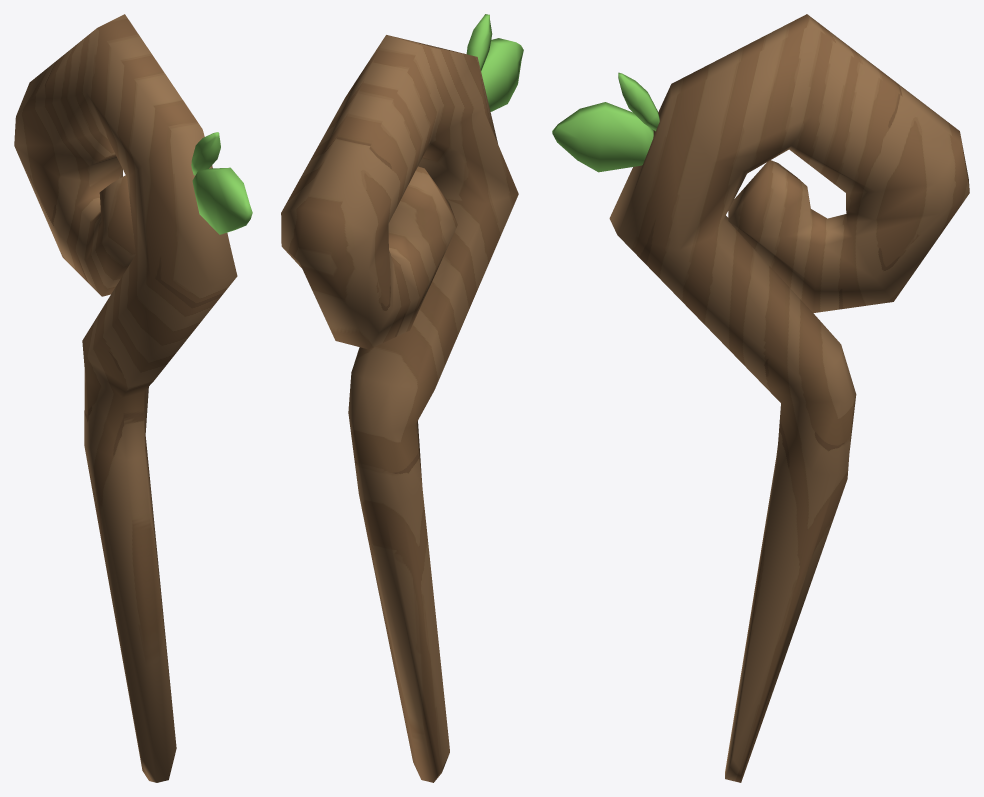
The model's file is StaffF.fbx.
3 views of the same model, side by side, from view 1: azimuth 30°, elevation 25°; view 2: azimuth 150°, elevation 25°; view 3: azimuth 270°, elevation 25° (orthographic). The views are drawn at different scales.
Visible parts, largest first — view 1: Staff F; view 2: Staff F; view 3: Staff F.
Part boxes in pixels (x1=…): Staff F: x1=14, y1=14, x2=252, y2=782; Staff F: x1=281, y1=14, x2=523, y2=782; Staff F: x1=552, y1=14, x2=969, y2=782.
Bounding box in the file's own units: 0.1455 × 1.11 × 0.5562.
